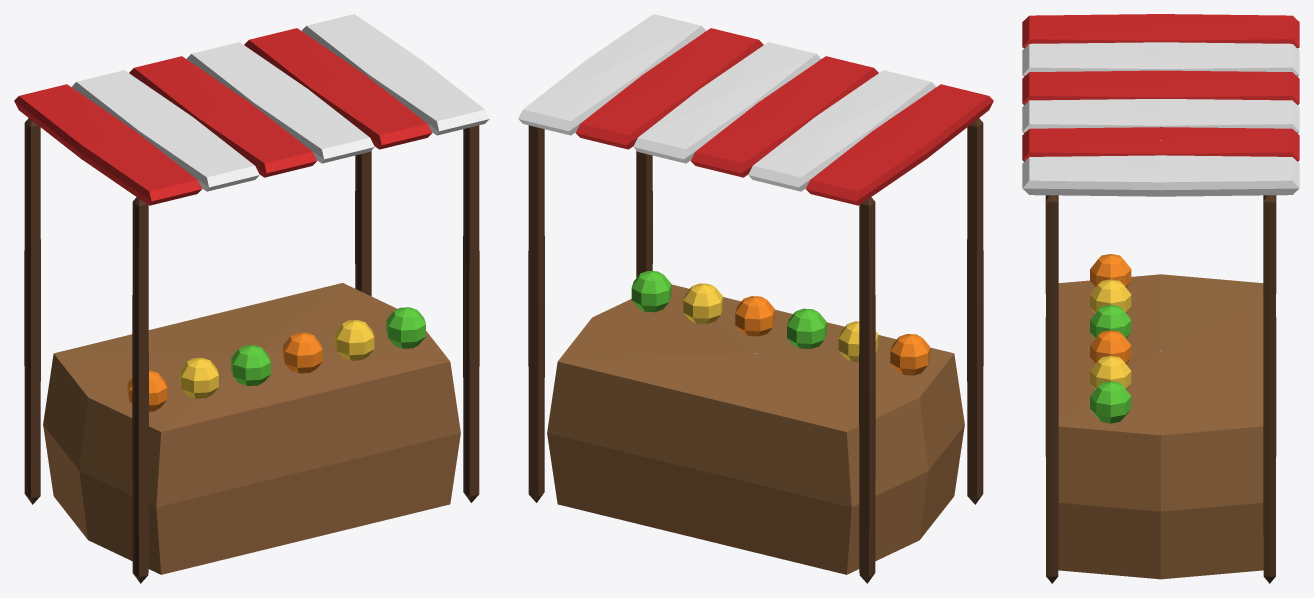
Rendered from s-kiosk.glb.
3 renders of one model, left to right at view 1: azimuth 30°, elevation 25°; view 2: azimuth 150°, elevation 25°; view 3: azimuth 270°, elevation 25°, orthographic.
Parts seen in each view (by area): view 1: p; view 2: p; view 3: p.
Boxes of the visible parts, left/top/right/bottom form: p: left=14, top=14, right=489, bottom=583; p: left=518, top=14, right=993, bottom=583; p: left=1022, top=14, right=1299, bottom=583.
Size of the model in its own units: 2.4 by 2.67 by 1.66.
